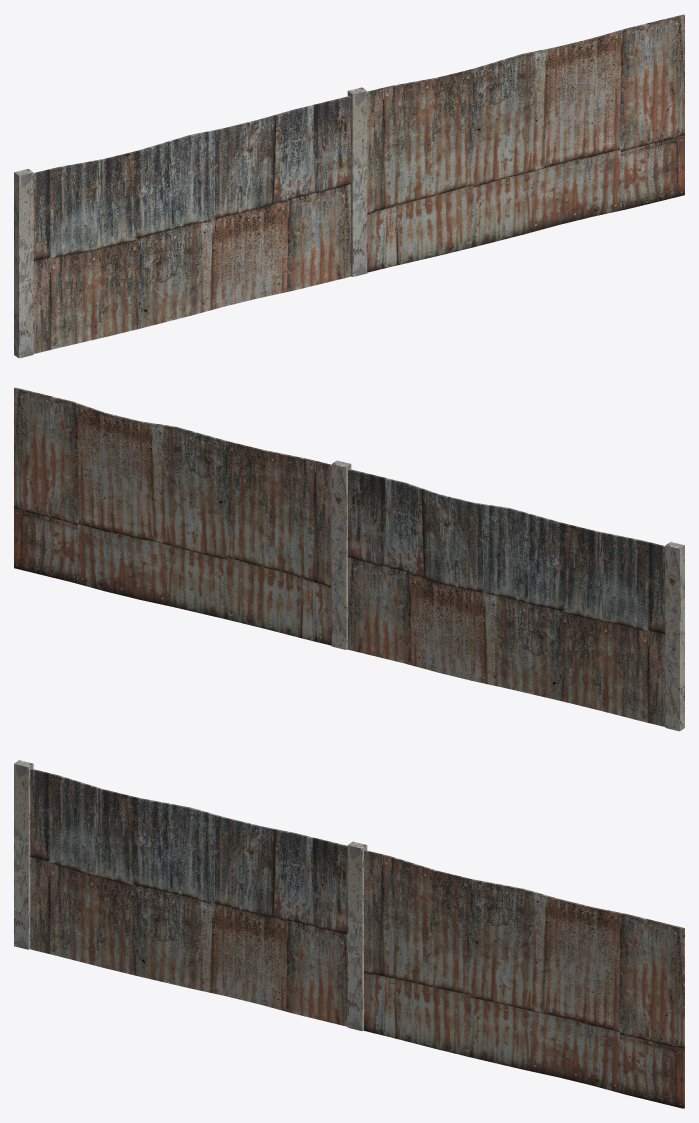
File: fence03.fbx
The picture shows the model from 3 angles, top to bottom: view 1: azimuth 30°, elevation 25°; view 2: azimuth 150°, elevation 25°; view 3: azimuth 330°, elevation 25°; orthographic projection.
Parts seen in each view (by area): view 1: Mesh; view 2: Mesh; view 3: Mesh.
Part boxes in pixels (<box>): Mesh: <box>14,14,684,358</box>; Mesh: <box>14,387,684,731</box>; Mesh: <box>14,760,684,1108</box>.
Size of the model in its own units: 777 by 204 by 10.14.
